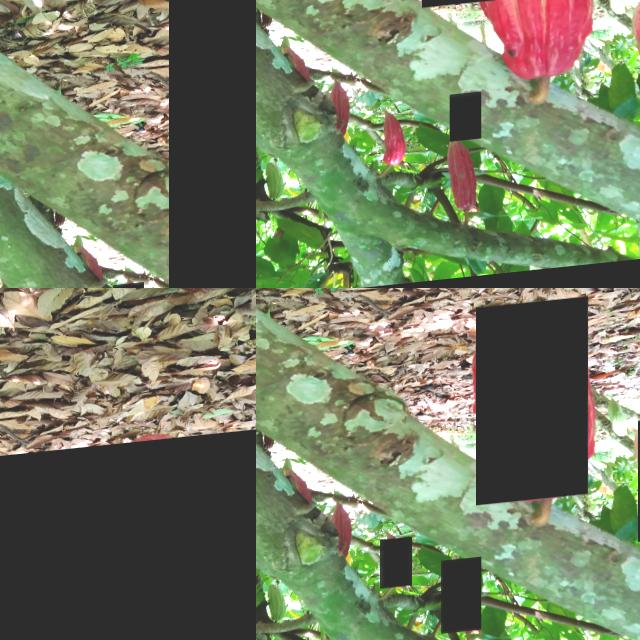Fitoftora: (169, 0, 256, 288), (476, 306, 588, 512)
Sana: (0, 432, 256, 640), (442, 564, 482, 640), (380, 542, 412, 593), (450, 99, 481, 148), (550, 0, 574, 30)
